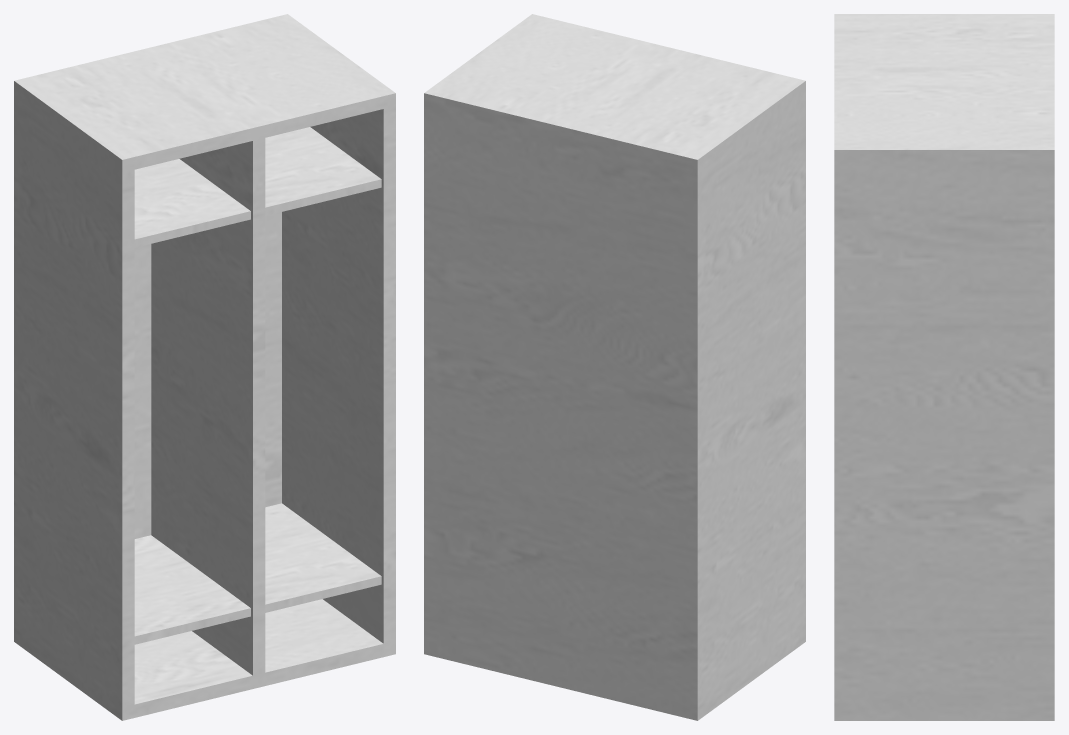
The model's file is Closet04.fbx.
The picture shows the model from 3 angles, left to right: view 1: azimuth 30°, elevation 25°; view 2: azimuth 150°, elevation 25°; view 3: azimuth 270°, elevation 25°; orthographic projection.
Visible parts, largest first — view 1: Closet04; view 2: Closet04; view 3: Closet04.
Boxes of the visible parts, x1,y1,x2,y2 form: Closet04: (14,14,395,720); Closet04: (424,14,805,720); Closet04: (834,14,1054,720).
Bounding box in the file's own units: 130 × 254 × 88.93.
